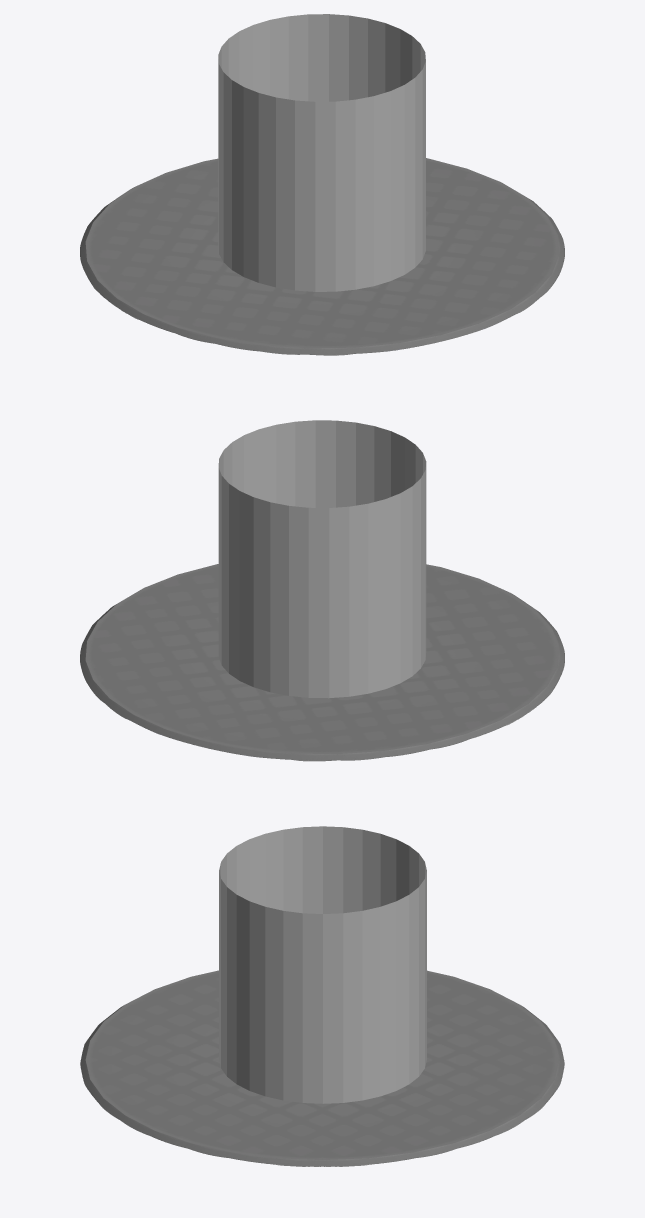
Rendered from pref_TPC_v2_WSJ_NeutralScoreArea03_purple_born_lv2.fbx.
3 renders of one model, top to bottom at view 1: azimuth 30°, elevation 25°; view 2: azimuth 150°, elevation 25°; view 3: azimuth 270°, elevation 25°, orthographic.
Parts seen in each view (by area): view 1: sm_fx_scorearea03_mesh_01_gp, sm_prop_platform06a_lv2; view 2: sm_fx_scorearea03_mesh_01_gp, sm_prop_platform06a_lv2; view 3: sm_fx_scorearea03_mesh_01_gp, sm_prop_platform06a_lv2.
Part boxes in pixels (x1,y1,x2,y2): sm_fx_scorearea03_mesh_01_gp: (218, 14, 425, 291); sm_prop_platform06a_lv2: (80, 158, 564, 355); sm_fx_scorearea03_mesh_01_gp: (218, 420, 426, 698); sm_prop_platform06a_lv2: (80, 564, 564, 761); sm_fx_scorearea03_mesh_01_gp: (219, 826, 426, 1103); sm_prop_platform06a_lv2: (80, 970, 564, 1166).
Size of the model in its own units: 7.46 by 3.07 by 7.46.
